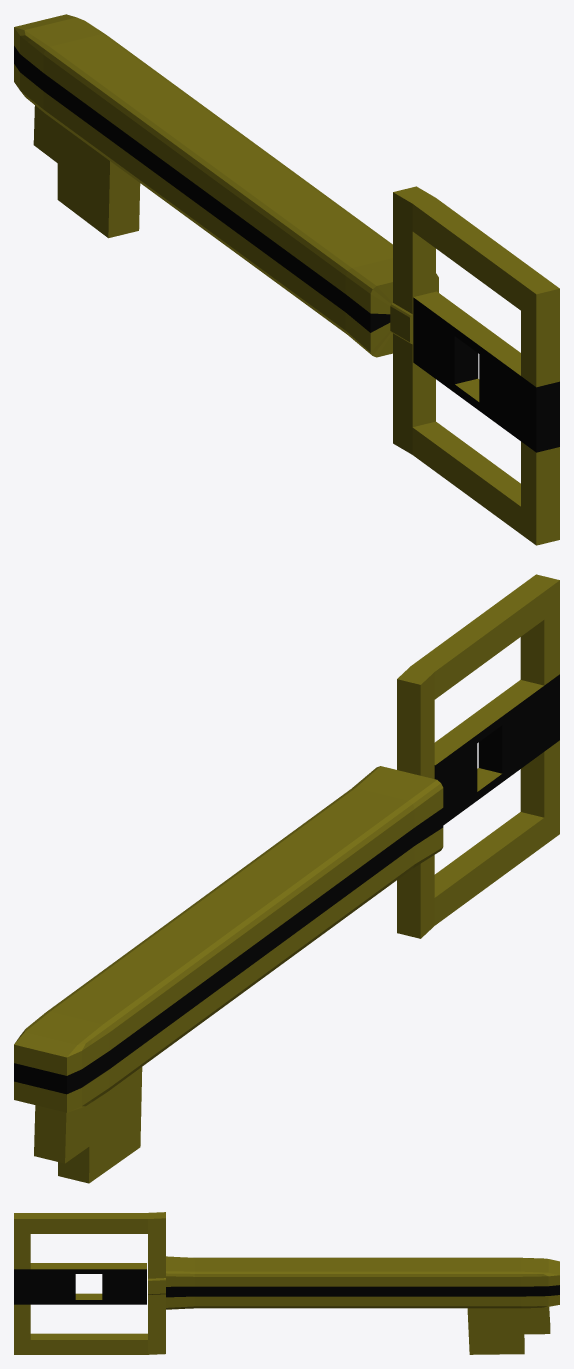
The model's file is key.fbx.
3 views of the same model, one above another, from view 1: azimuth 30°, elevation 25°; view 2: azimuth 150°, elevation 25°; view 3: azimuth 270°, elevation 25° (orthographic). The views are drawn at different scales.
Visible parts, largest first — view 1: key; view 2: key; view 3: key.
Boxes of the visible parts, x1,y1,x2,y2 form: key: (14, 14, 559, 545); key: (14, 574, 559, 1183); key: (14, 1212, 559, 1354).
Bounding box in the file's own units: 21.12 × 74.18 × 270.
